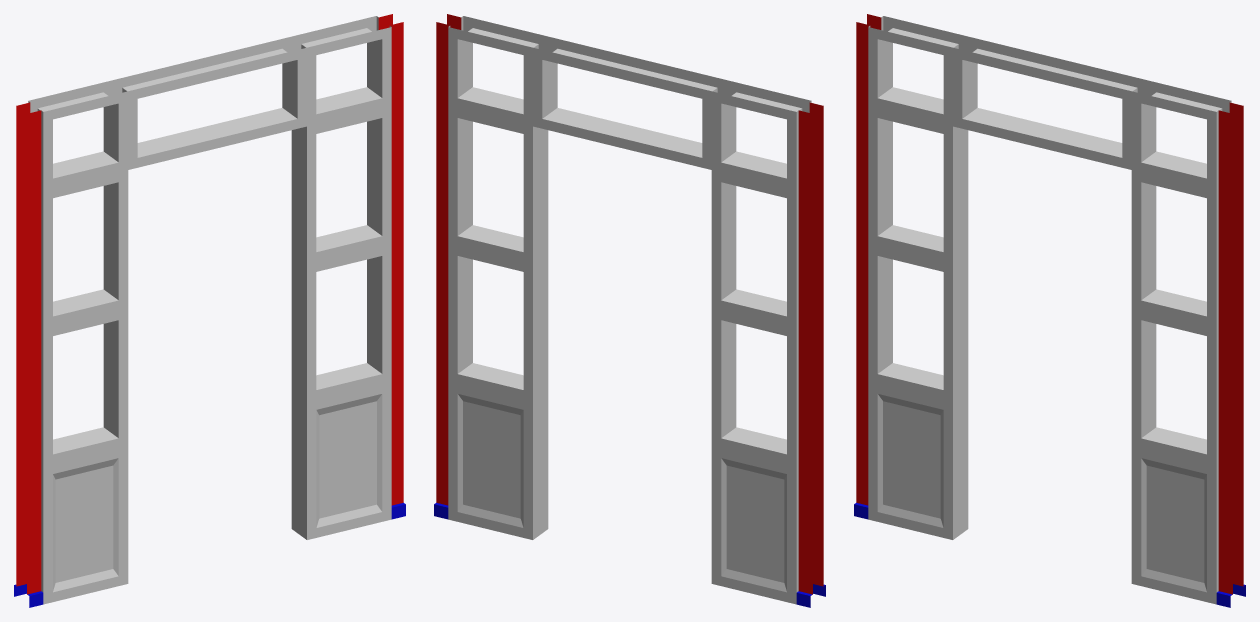
Rendered from DoorFrame.fbx.
3 views of the same model, side by side, from view 1: azimuth 30°, elevation 25°; view 2: azimuth 150°, elevation 25°; view 3: azimuth 330°, elevation 25° (orthographic).
Visible parts, largest first — view 1: Cube.048; view 2: Cube.048; view 3: Cube.048.
Part boxes in pixels (x1=…): Cube.048: x1=14, y1=14, x2=405, y2=607; Cube.048: x1=434, y1=14, x2=825, y2=607; Cube.048: x1=854, y1=14, x2=1245, y2=607.
Bounding box in the file's own units: 2 × 2.5 × 0.14.
